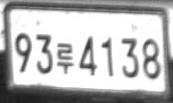1: (99, 37, 118, 76)
3: (35, 34, 53, 74), (121, 37, 139, 77)
4: (78, 36, 97, 75)
8: (141, 37, 161, 79)
9: (14, 32, 32, 72)
루: (56, 42, 74, 73)
